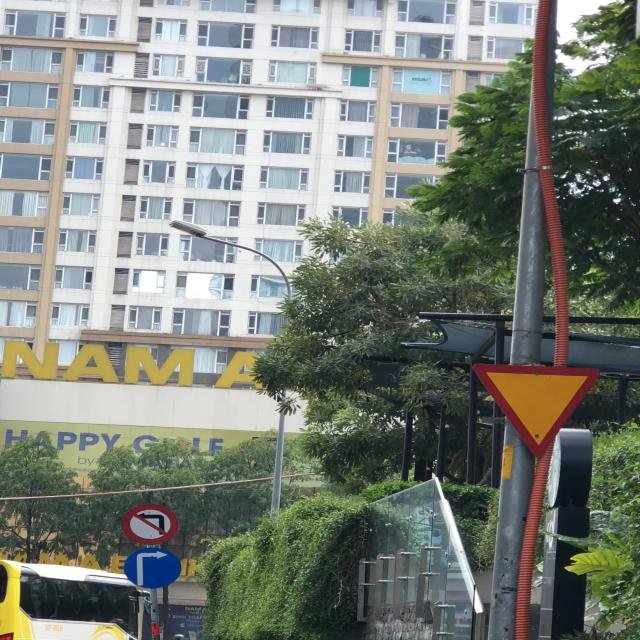Bien bao cam re trai: (123, 501, 181, 546)
Bien bao giao nhau voi duong uu tien: (466, 355, 609, 460)
Bien bao huong di phai theo: (122, 546, 189, 596)
